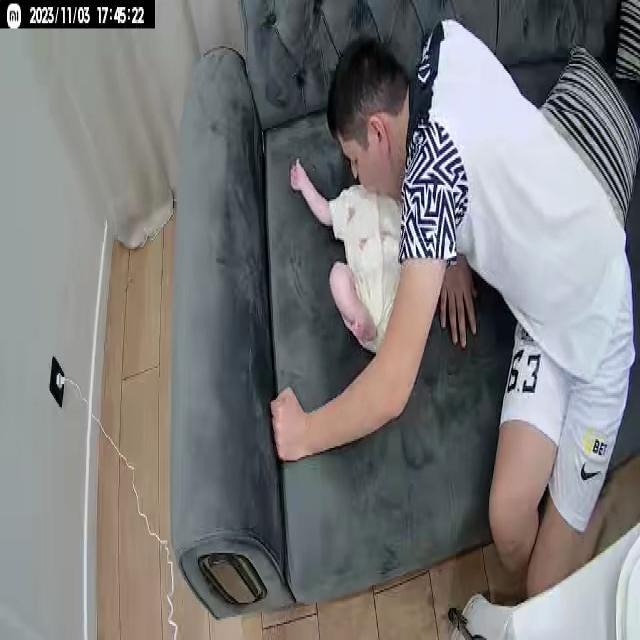baby: (289, 155, 423, 365)
